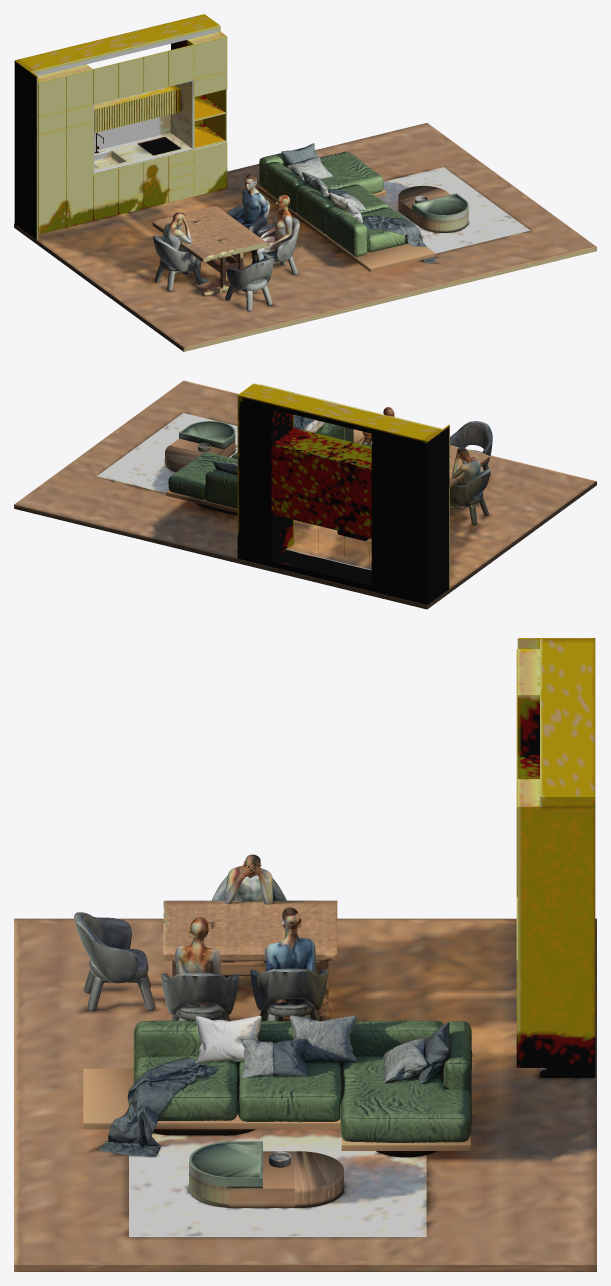
File: meal.glb
3 views of the same model, one above another, from view 1: azimuth 30°, elevation 25°; view 2: azimuth 150°, elevation 25°; view 3: azimuth 270°, elevation 25° (orthographic). The views are drawn at different scales.
Parts seen in each view (by area): view 1: ground, kitchen, canape, carpet, table, parents, tabletv, ben, chaise2; view 2: kitchen, ground, canape, carpet, tabletv, ben, chaise2, table; view 3: ground, canape, kitchen, carpet, parents, table, tabletv, chaise2, ben.
Part boxes in pixels (x1,y1,x2,y2): ground: (14,123,596,351); kitchen: (14,14,227,240); canape: (257,143,435,272); carpet: (377,167,529,253); table: (152,206,267,296); parents: (226,174,299,282); tabletv: (398,186,468,232); ben: (152,212,209,291); chaise2: (225,258,273,311); kitchen: (237,383,449,604); ground: (14,380,596,609); canape: (166,415,364,515); carpet: (97,413,237,493); tabletv: (165,421,235,471); ben: (450,447,490,524); chaise2: (450,421,492,475); table: (450,445,490,497); ground: (14,918,596,1271); canape: (83,1015,472,1157); kitchen: (516,638,595,1077); carpet: (129,1129,426,1237); parents: (161,907,328,1021); table: (163,900,337,1020); tabletv: (189,1141,343,1207); chaise2: (74,912,155,1011); ben: (212,854,286,978).
Size of the model in its own units: 7.4 by 2.87 by 5.27.
